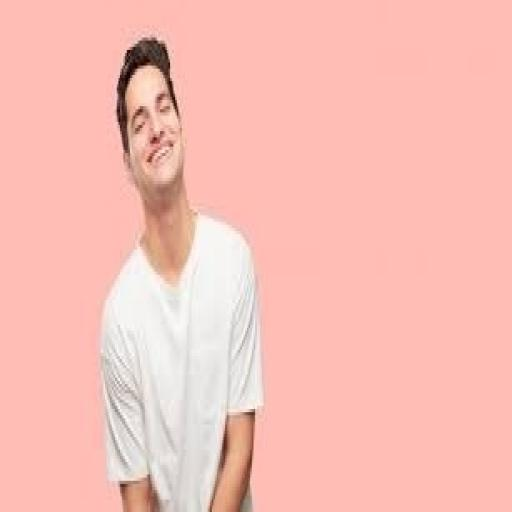laughing: (88, 28, 270, 506)
